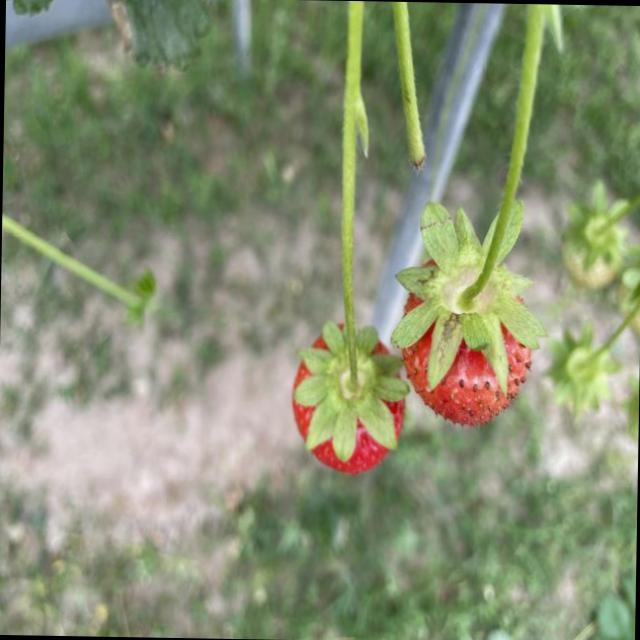stem: (293, 0, 408, 462), (394, 130, 544, 389)
strawberryR: (401, 328, 530, 424), (311, 420, 390, 474), (292, 399, 313, 438), (387, 399, 404, 437), (295, 362, 309, 387)
